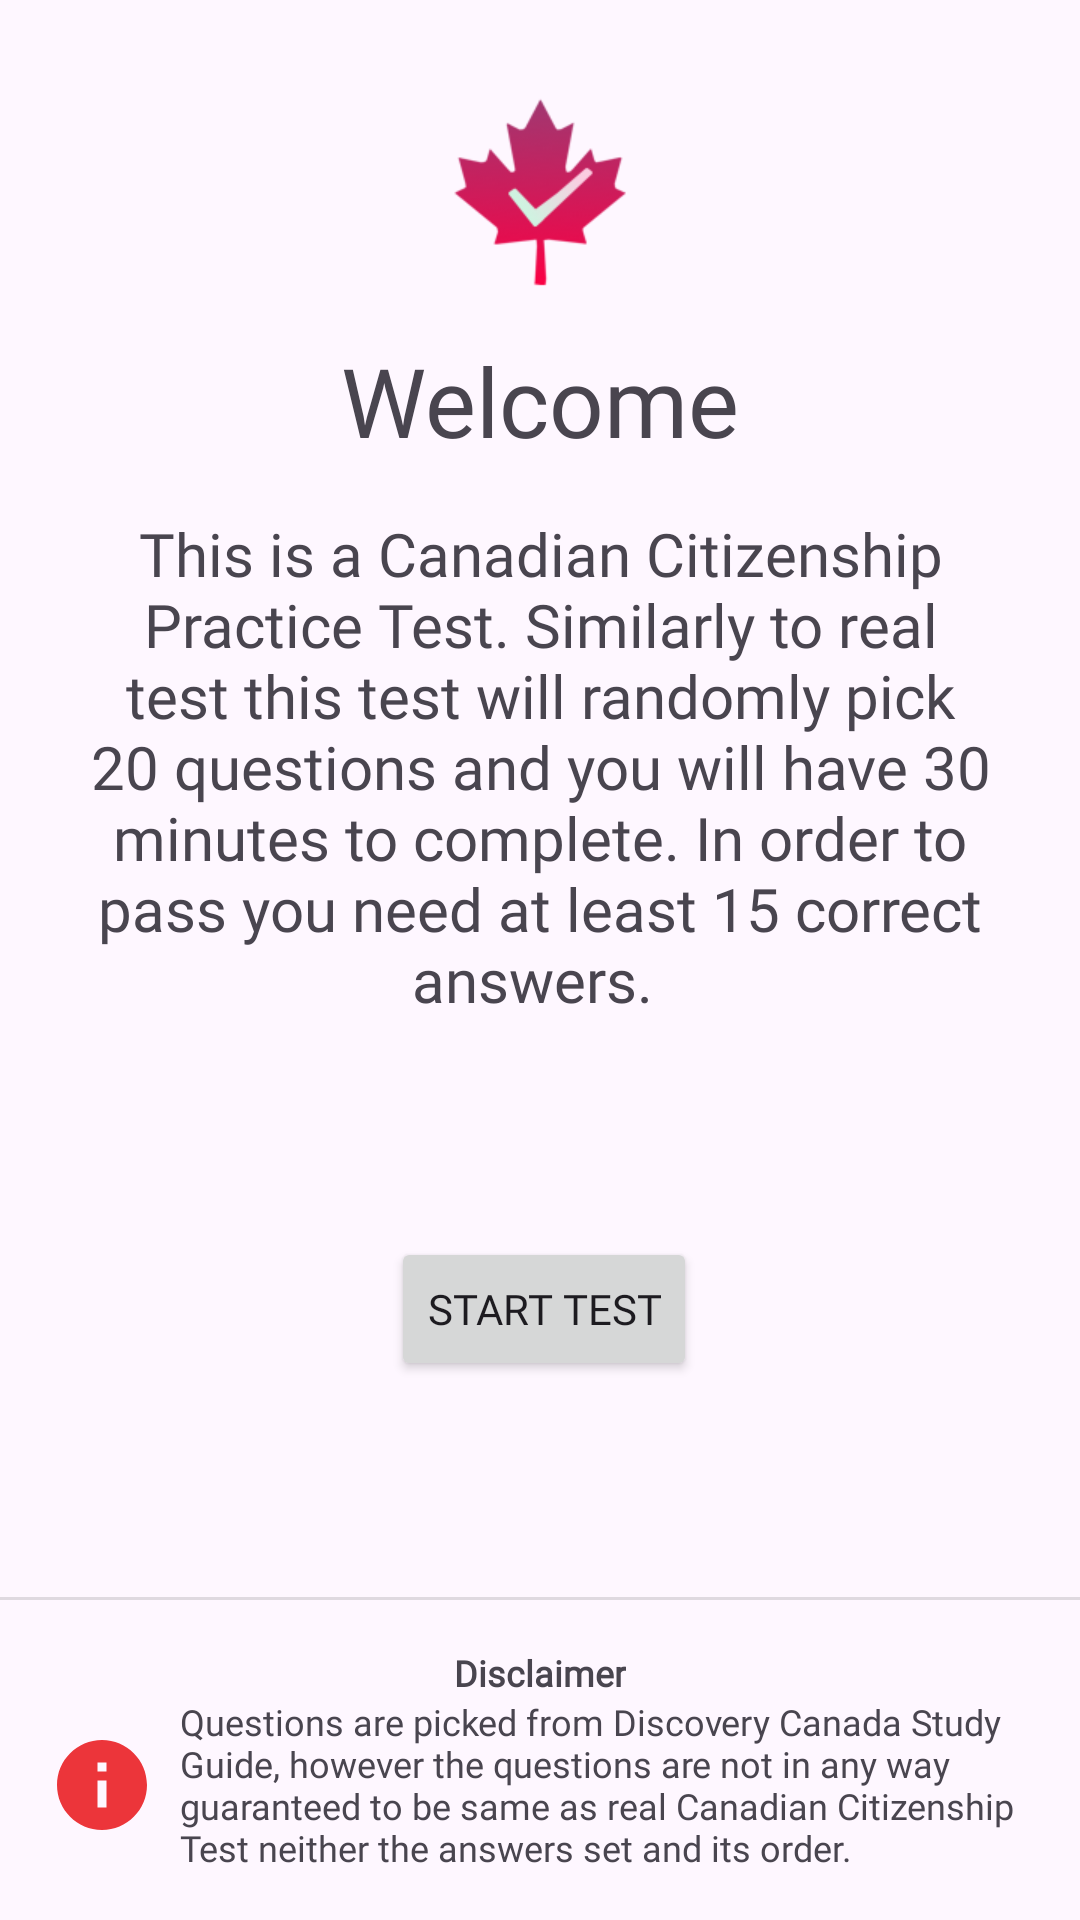

Named icons in this screenshot (1080×1920) and their centers, (x=x, y=y):
info: (x=102, y=1785)
